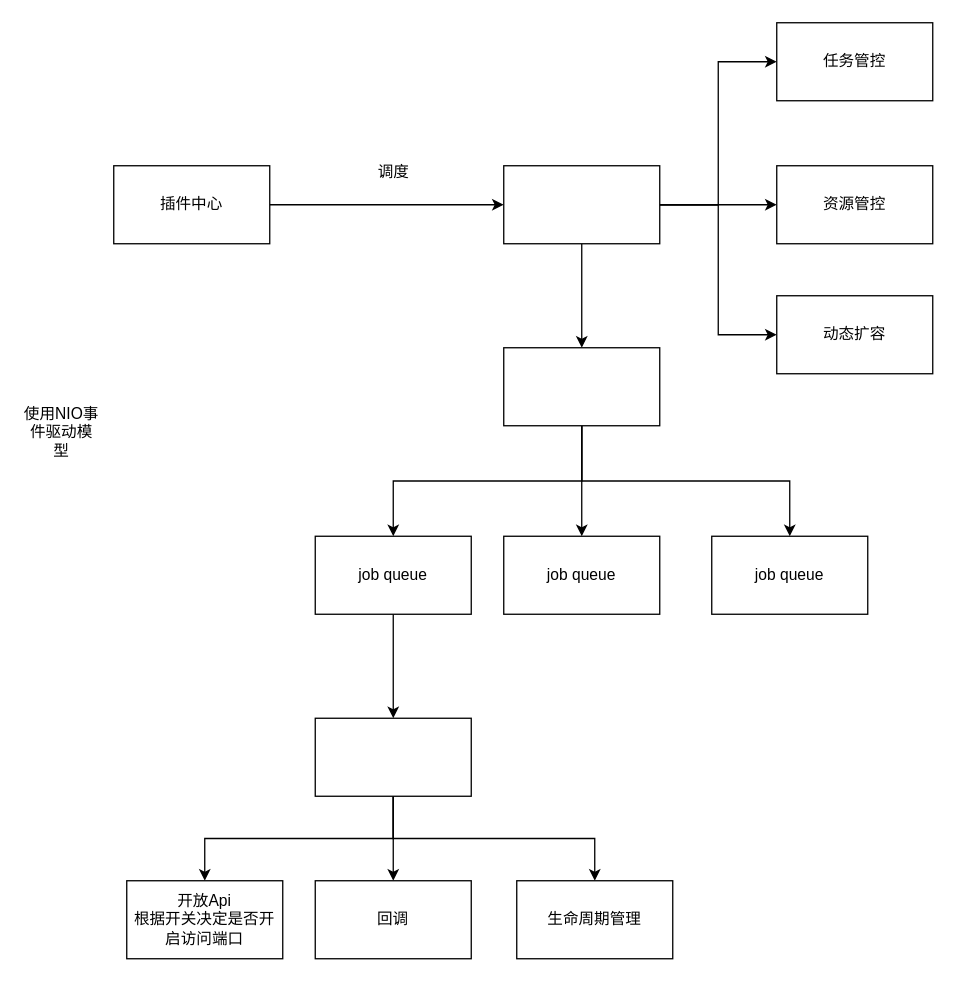
The diagram is 955 pixels wide and 981 high, and some of its shapes have lost their labels. The centre of each missing label's shape, as x and y in pixels:
"job" goes at [392,756].
"job GateWay" goes at [581,386].
"任务中心" goes at [581,204].
